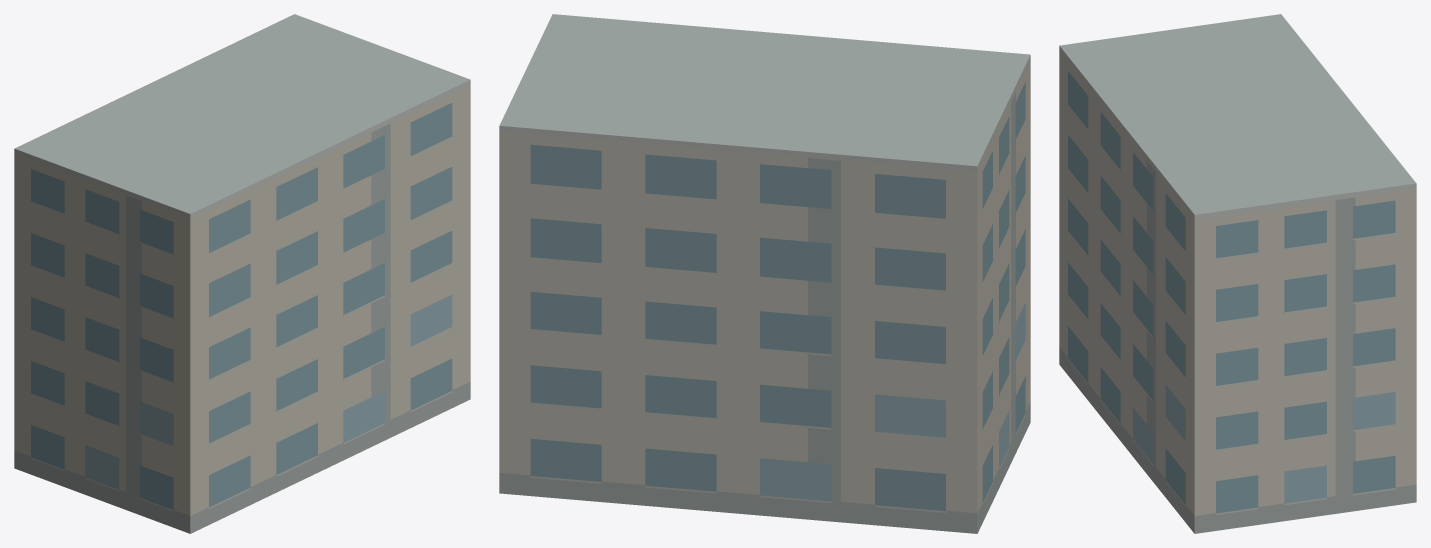
Rendered from survey-upis-32767623.glb.
3 renders of one model, left to right at view 1: azimuth 30°, elevation 25°; view 2: azimuth 150°, elevation 25°; view 3: azimuth 270°, elevation 25°, orthographic. The views are drawn at different scales.
Visible parts, largest first — view 1: survey-upis-32767623.tmp; view 2: survey-upis-32767623.tmp; view 3: survey-upis-32767623.tmp.
Boxes of the visible parts, left/top/right/bottom form: survey-upis-32767623.tmp: left=14, top=14, right=470, bottom=533; survey-upis-32767623.tmp: left=499, top=14, right=1030, bottom=533; survey-upis-32767623.tmp: left=1059, top=14, right=1416, bottom=533.
Bounding box in the file's own units: 19.74 × 14.6 × 14.82.
